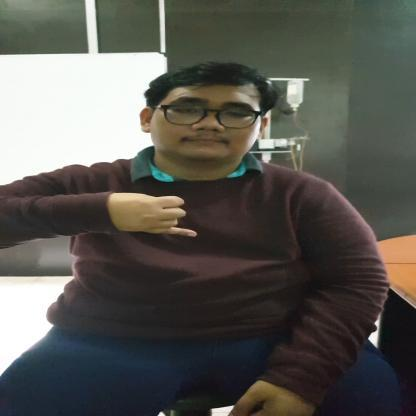J: (104, 191, 198, 238)
